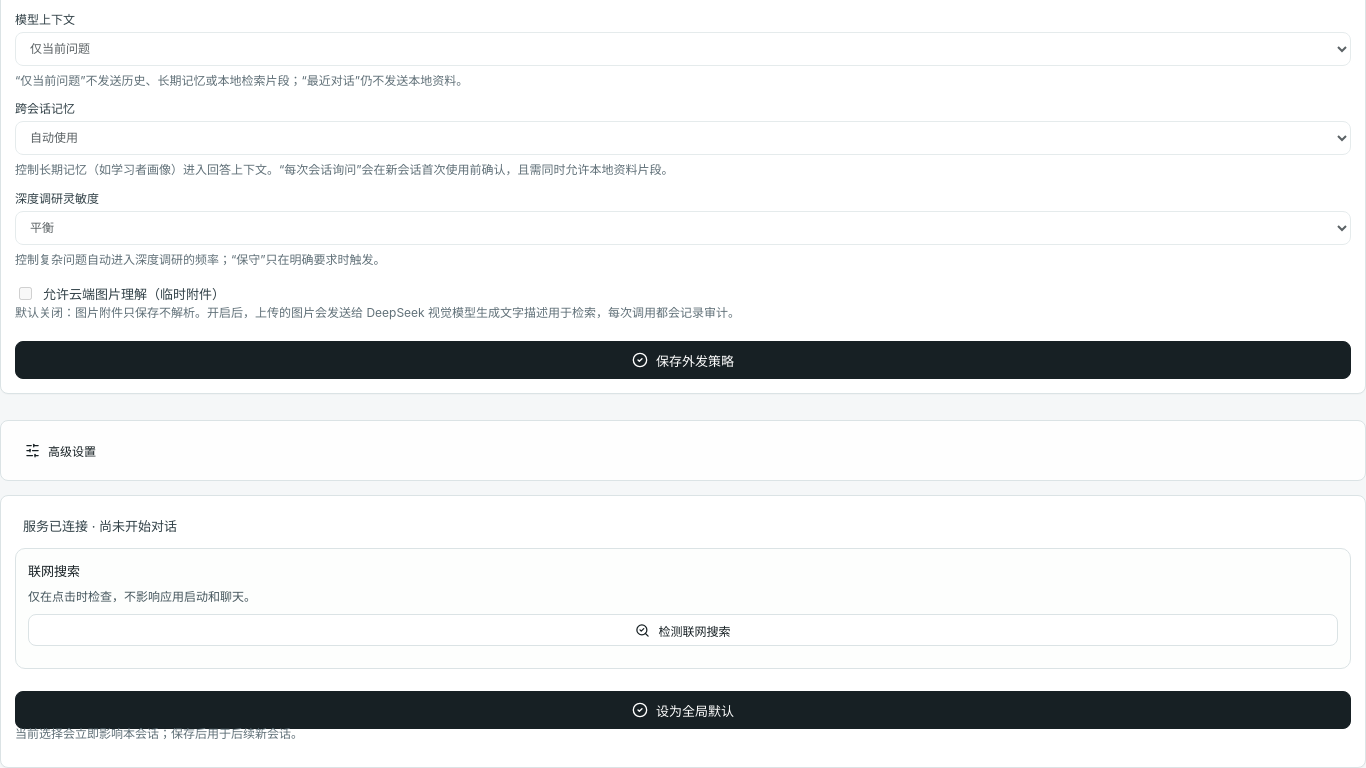
Test: SettingsPanel provider health › keeps the provider check independent from the chat sending lock and renders request failure
(page scrolled)
Click the button "检测联网搜索" at x=683, y=630, box [28,614,1338,646]
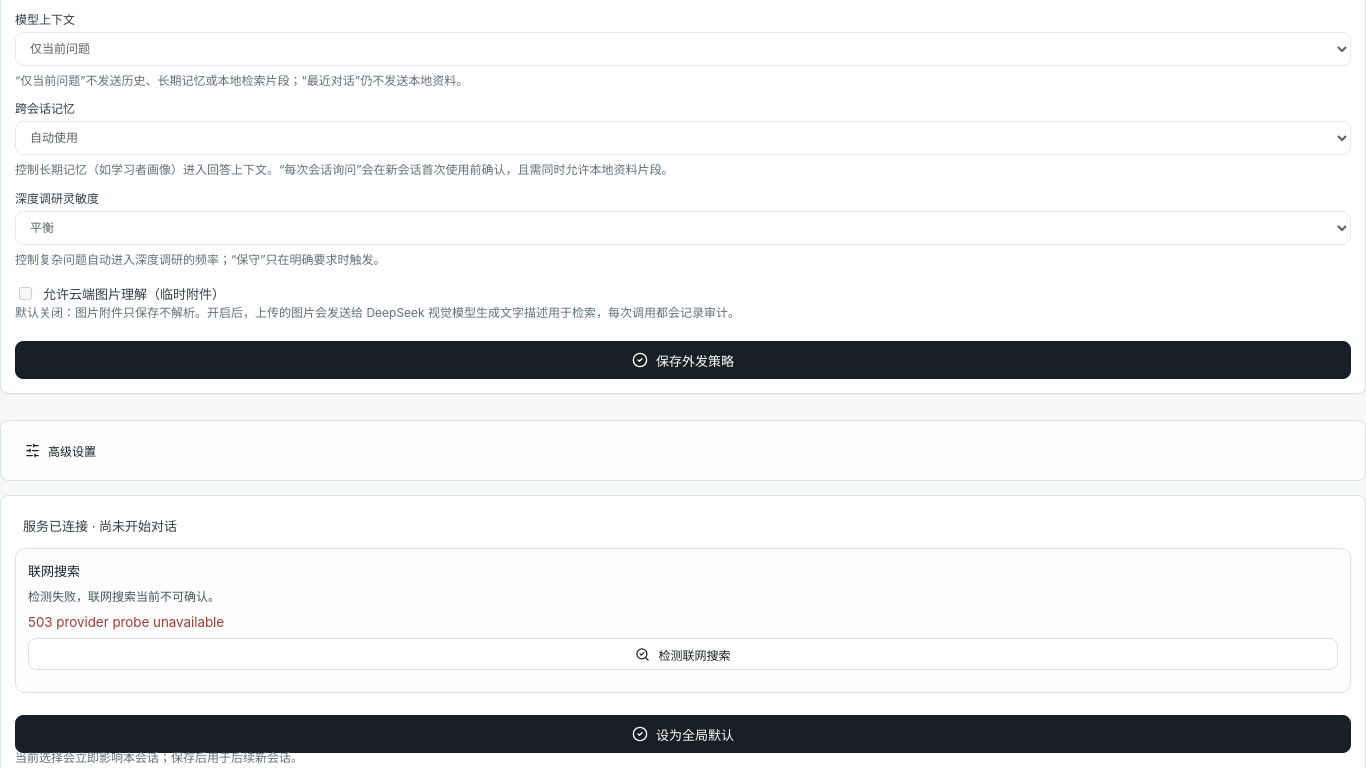
Now the message reads "503 provider probe unavailable", box [28,614,224,630]
Now the text "检测失败，联网搜索当前不可确认。" is shown, box [28,590,220,604]
